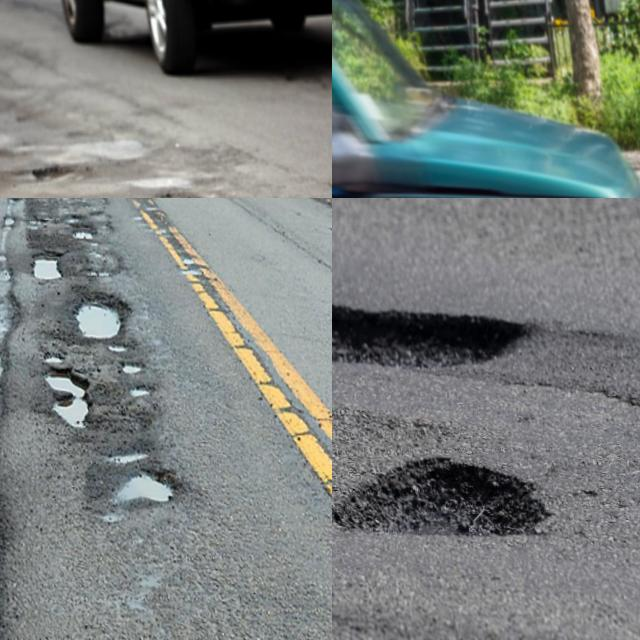Potholes: (332, 440, 572, 611), (332, 248, 559, 425), (63, 426, 198, 575), (50, 262, 142, 377), (0, 288, 50, 451), (24, 137, 98, 198), (115, 160, 218, 198), (13, 237, 75, 300), (48, 203, 112, 255), (40, 198, 103, 250), (0, 198, 39, 224)
